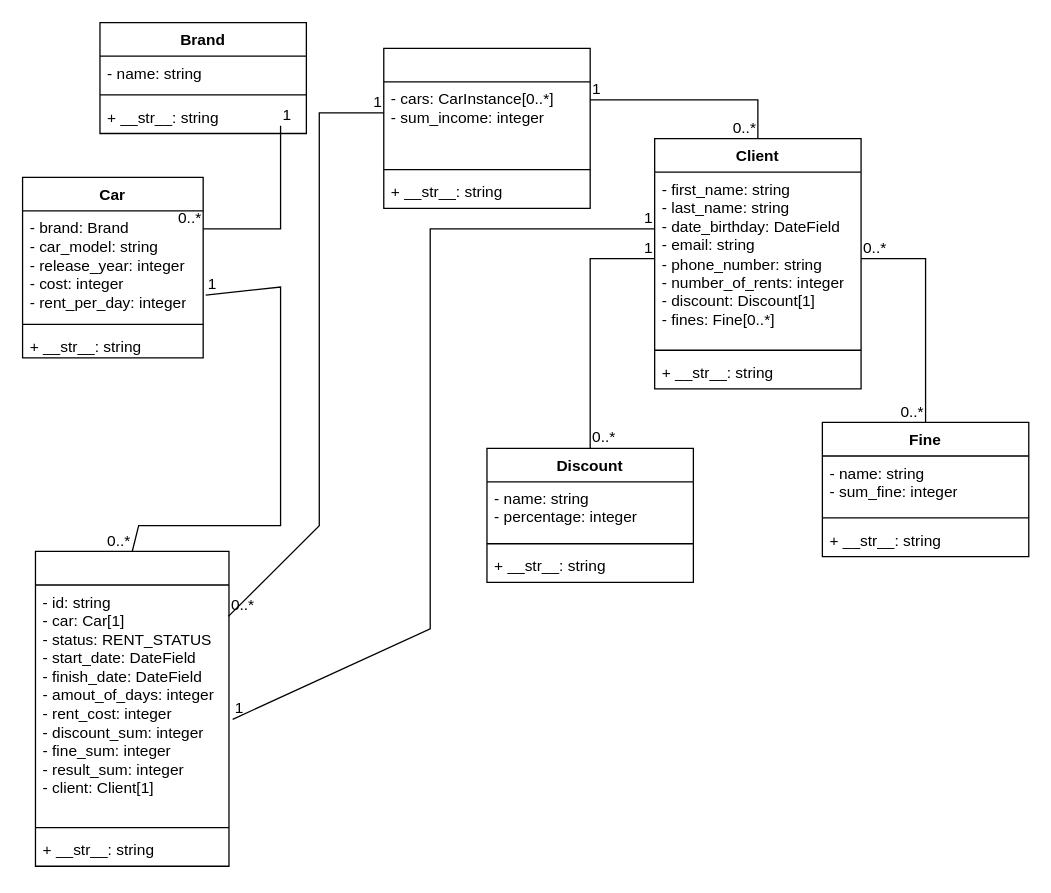
Some shapes in this 1051 by 893 pixel diagram are drawn without their labels. Here are the shapes that lost their labels. From the top down, the box of each, then its label:
(382, 47, 590, 208): AutoPark
(34, 550, 229, 866): CarInstance
